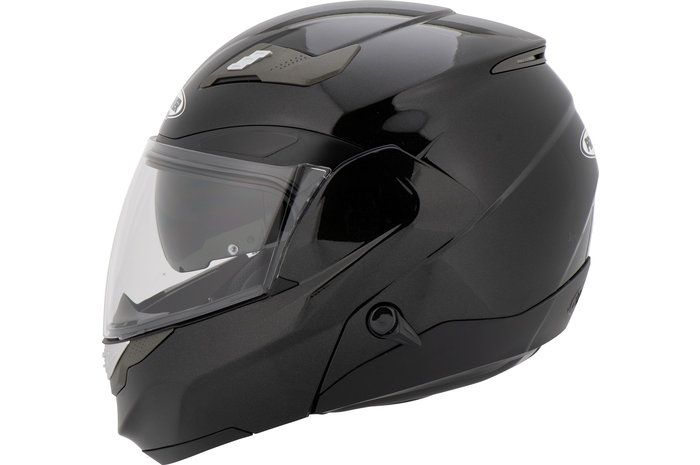with_helmet: (97, 1, 602, 465)
